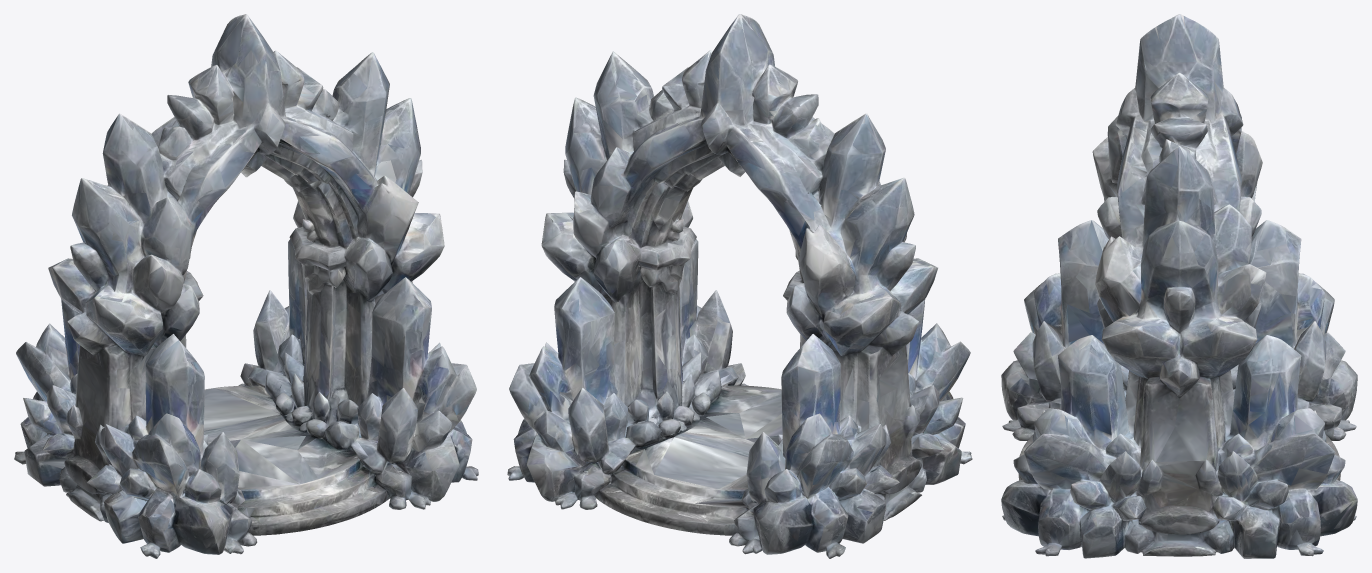
Rendered from Crystal_Gate_of_Light.glb.
3 renders of one model, left to right at view 1: azimuth 30°, elevation 25°; view 2: azimuth 150°, elevation 25°; view 3: azimuth 270°, elevation 25°, orthographic.
Parts seen in each view (by area): view 1: Crystal_Gate_of_Light; view 2: Crystal_Gate_of_Light; view 3: Crystal_Gate_of_Light.
Boxes of the visible parts, <box> form: Crystal_Gate_of_Light: <box>14,14,478,558</box>; Crystal_Gate_of_Light: <box>507,14,972,558</box>; Crystal_Gate_of_Light: <box>1001,14,1357,558</box>.
Size of the model in its own units: 1.59 by 1.9 by 1.33.
1 material, 1 textured.
